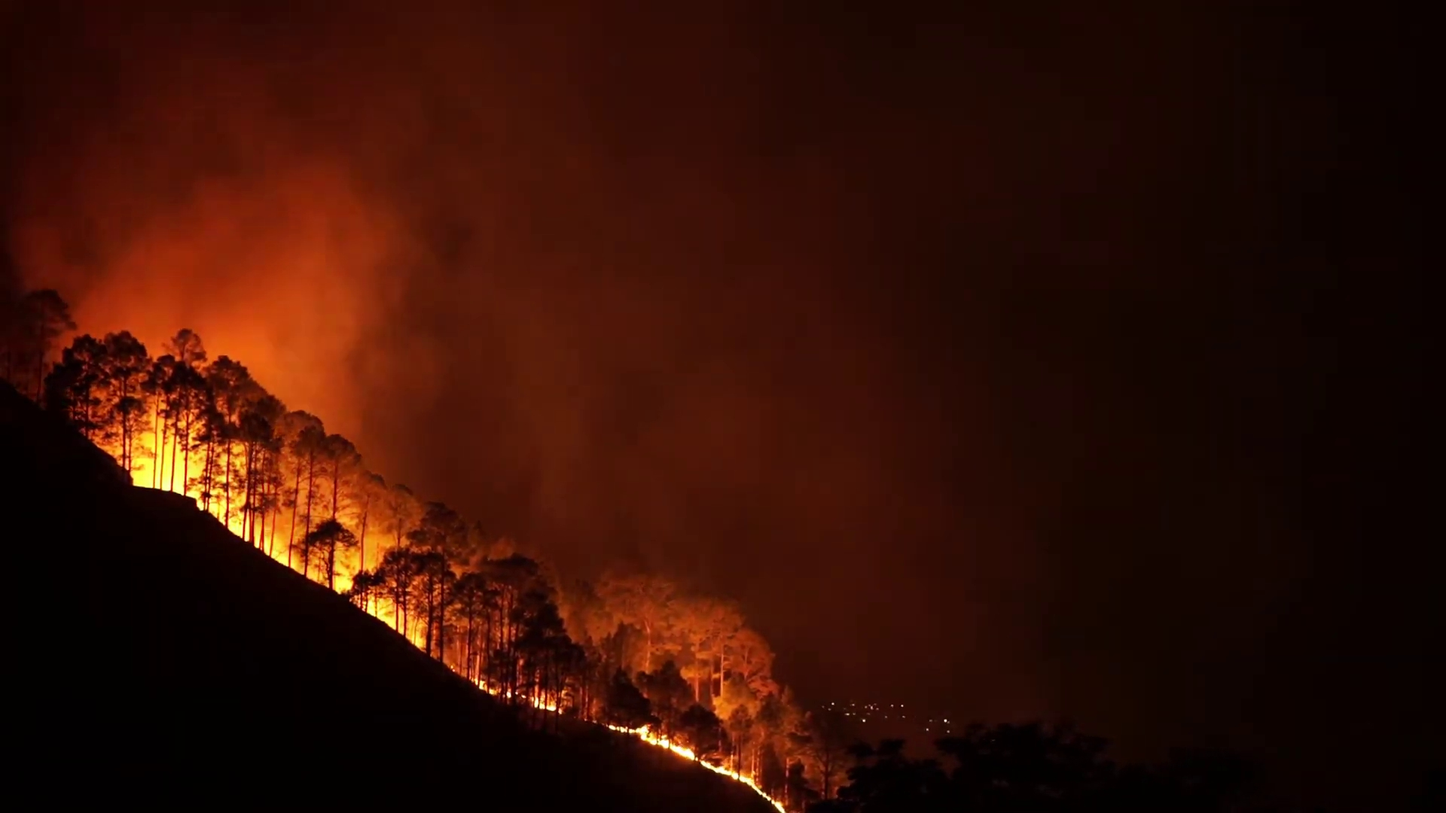forest_fire: (3, 293, 811, 810), (799, 799, 801, 800), (825, 784, 825, 786)
